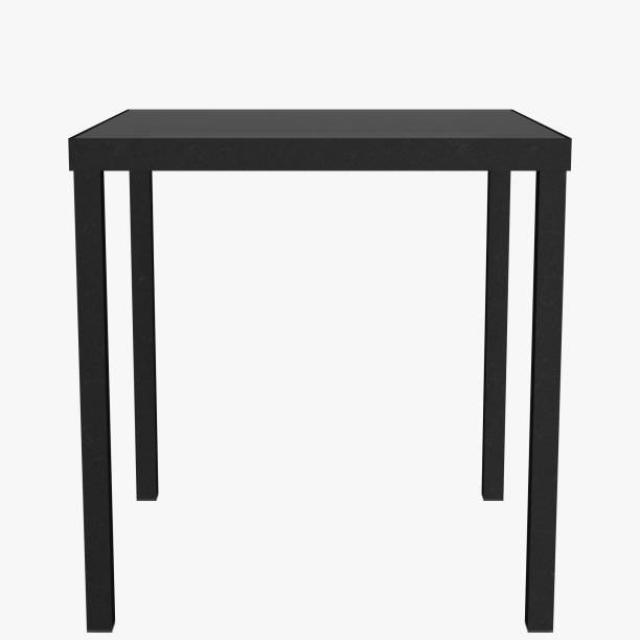table: (68, 106, 572, 634)
